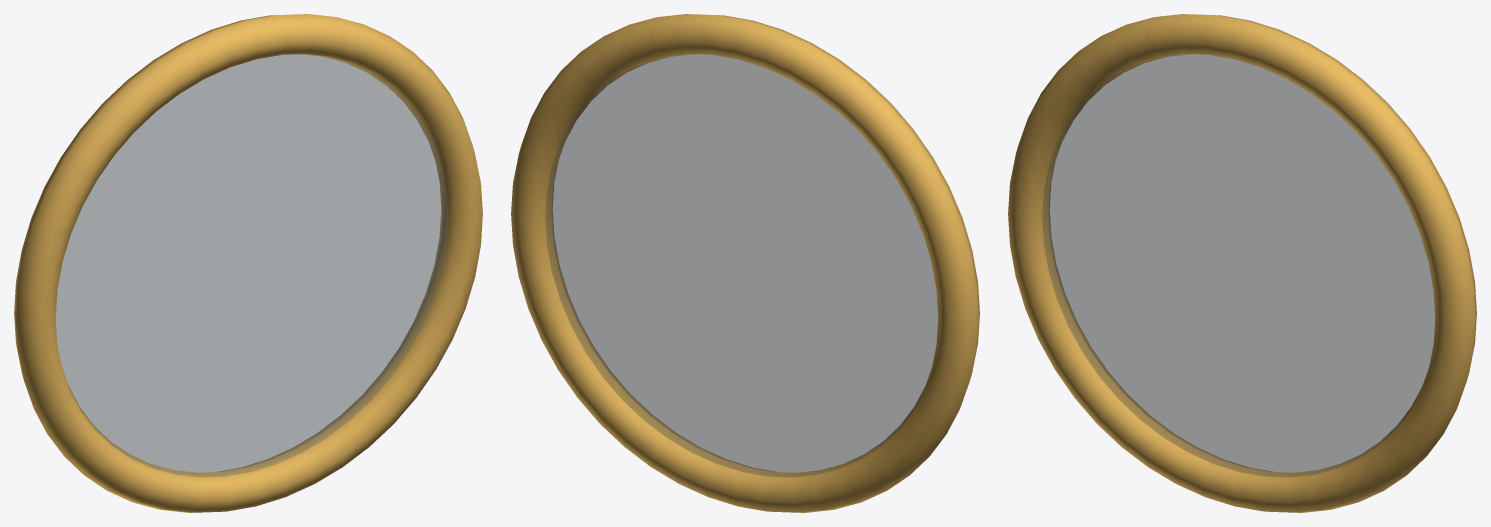
File: mirror-round.glb
3 renders of one model, left to right at view 1: azimuth 30°, elevation 25°; view 2: azimuth 150°, elevation 25°; view 3: azimuth 330°, elevation 25°, orthographic.
Visible parts, largest first — view 1: mirror-round; view 2: mirror-round; view 3: mirror-round.
Part boxes in pixels (x1,y1,x2,y2): mirror-round: (14,14,482,512); mirror-round: (511,14,979,512); mirror-round: (1008,14,1476,512).
Size of the model in its own units: 0.87 by 0.87 by 0.07.
